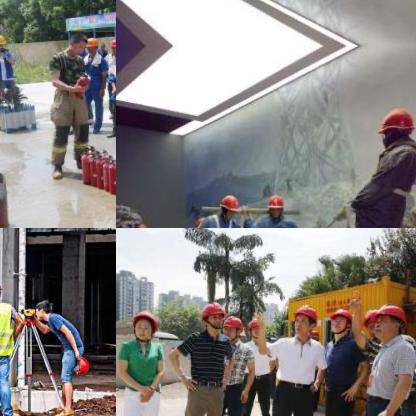Helmet: (376, 105, 414, 147), (370, 298, 408, 338), (127, 306, 160, 338), (291, 302, 315, 338), (326, 306, 352, 336), (198, 300, 223, 330), (362, 304, 382, 336), (219, 192, 239, 221), (265, 192, 285, 219), (223, 314, 242, 338), (247, 311, 263, 339), (82, 35, 98, 53), (131, 219, 150, 227), (0, 32, 7, 49), (108, 38, 115, 55)
